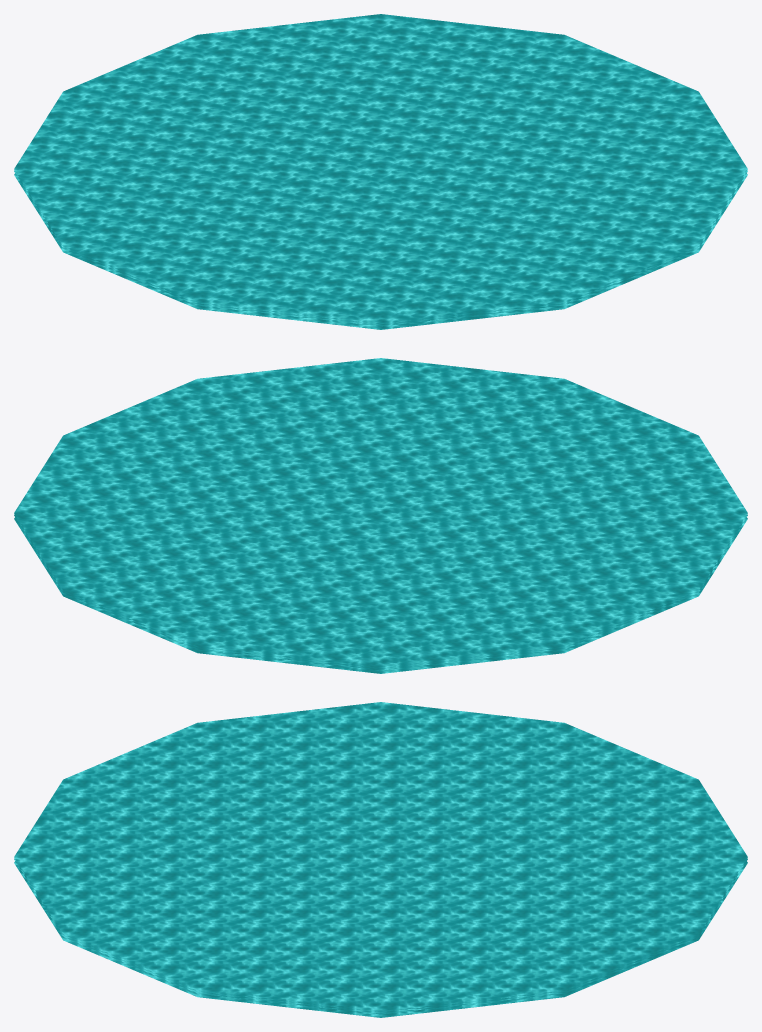
File: majorcity_haishui02.FBX
The picture shows the model from 3 angles, top to bottom: view 1: azimuth 30°, elevation 25°; view 2: azimuth 150°, elevation 25°; view 3: azimuth 270°, elevation 25°; orthographic projection.
Visible parts, largest first — view 1: majorcity_haishui004, majorcity_haishui002, majorcity_haishui003; view 2: majorcity_haishui004, majorcity_haishui002, majorcity_haishui003; view 3: majorcity_haishui004, majorcity_haishui002, majorcity_haishui003.
Part boxes in pixels (box(x1,y1,x2,y2)): majorcity_haishui004: box(14, 14, 747, 323); majorcity_haishui002: box(14, 173, 747, 329); majorcity_haishui003: box(14, 170, 747, 326); majorcity_haishui004: box(14, 358, 747, 667); majorcity_haishui002: box(14, 517, 747, 673); majorcity_haishui003: box(14, 514, 747, 670); majorcity_haishui004: box(14, 702, 747, 1011); majorcity_haishui002: box(14, 861, 747, 1017); majorcity_haishui003: box(14, 858, 747, 1014).
Size of the model in its own units: 29879 by 260 by 29879.
